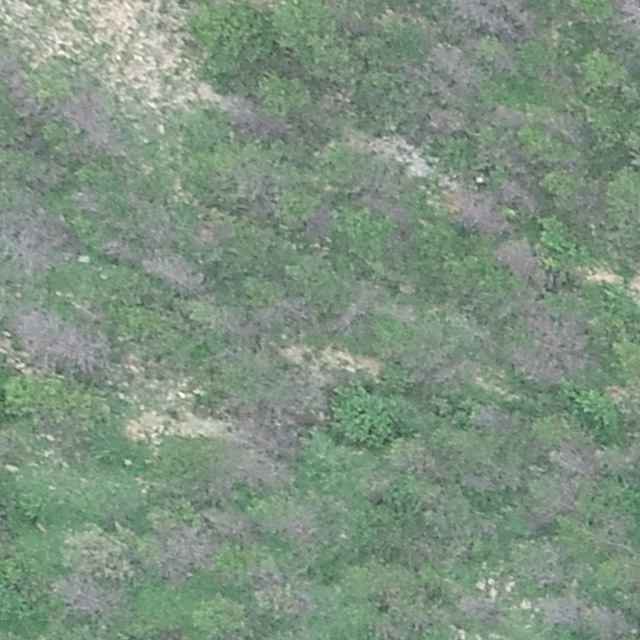unhealthy: (13, 308, 113, 383), (507, 308, 593, 387), (226, 396, 305, 476), (2, 206, 72, 276), (60, 88, 122, 156), (151, 522, 217, 582), (442, 175, 505, 236), (215, 165, 285, 217), (250, 567, 314, 621), (217, 91, 287, 140), (51, 573, 121, 619), (350, 171, 409, 224), (455, 0, 531, 38), (0, 53, 40, 123), (426, 41, 481, 91), (141, 250, 203, 294), (492, 236, 546, 283), (392, 442, 452, 482), (278, 501, 321, 554), (535, 475, 581, 521), (548, 435, 602, 472), (454, 312, 498, 355), (213, 303, 258, 344), (565, 185, 606, 230), (586, 603, 632, 640), (542, 112, 589, 148), (503, 174, 549, 210), (462, 465, 518, 494), (592, 512, 632, 552), (538, 592, 582, 628), (454, 591, 500, 625), (469, 402, 519, 433), (301, 202, 339, 241), (24, 157, 67, 190), (271, 295, 316, 325), (536, 63, 575, 97), (210, 506, 255, 534), (422, 105, 465, 134), (318, 86, 357, 117), (612, 0, 640, 43), (329, 302, 362, 332), (72, 188, 108, 215), (489, 47, 522, 76), (101, 236, 135, 264), (491, 102, 527, 128), (370, 615, 406, 640), (193, 223, 221, 252), (386, 302, 418, 326)
